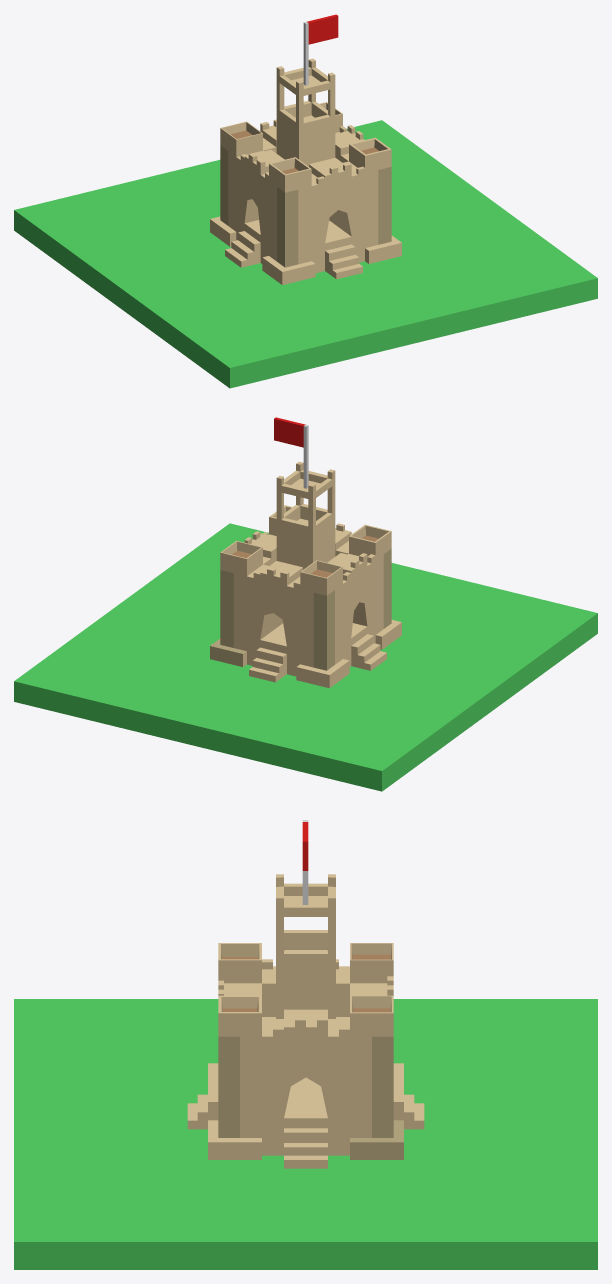
File: sandCastle2.gltf
3 views of the same model, one above another, from view 1: azimuth 30°, elevation 25°; view 2: azimuth 150°, elevation 25°; view 3: azimuth 270°, elevation 25° (orthographic). The views are drawn at different scales.
Visible parts, largest first — view 1: Cube; view 2: Cube; view 3: Cube.
Part boxes in pixels (x1,y1,x2,y2): Cube: [14, 14, 597, 388]; Cube: [14, 417, 597, 791]; Cube: [14, 820, 597, 1269].
Size of the model in its own units: 28.16 by 17.68 by 28.6.
